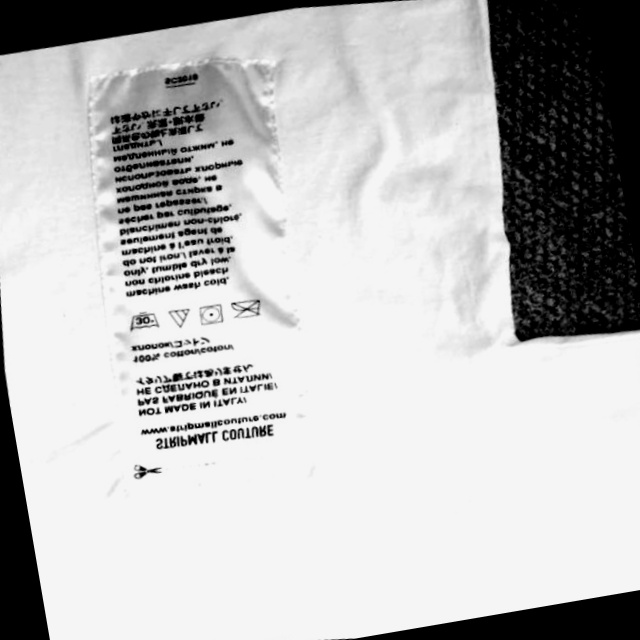30C: (123, 306, 164, 336)
DN_iron: (228, 292, 270, 327)
non_chlorine_bleach: (164, 303, 195, 331)
tumble_dry_low: (191, 299, 229, 329)
